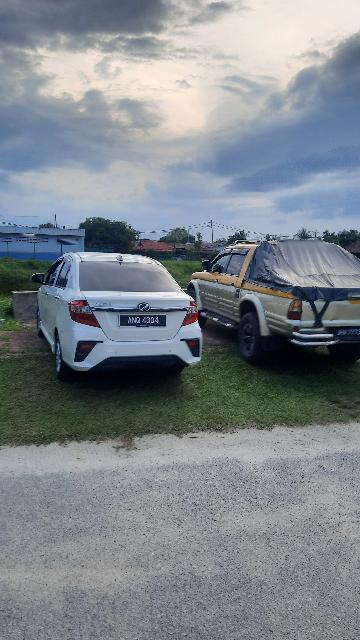License_Plate: (118, 313, 169, 329)
car: (27, 251, 208, 383)
